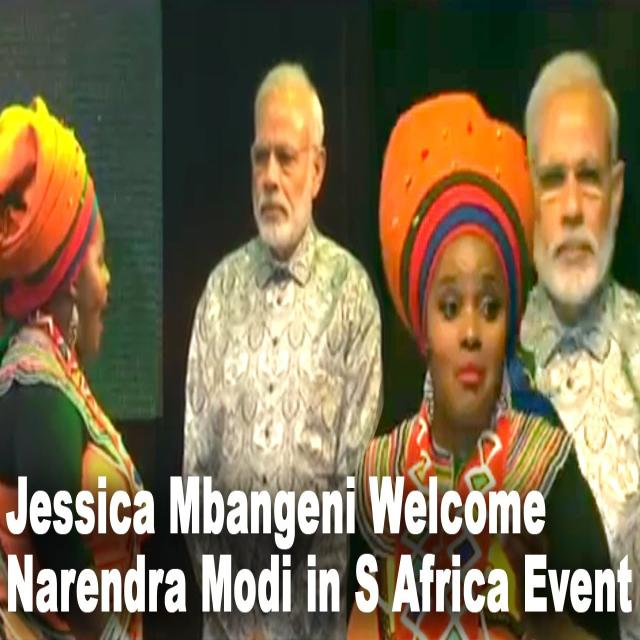body: (340, 82, 624, 639), (181, 50, 387, 639), (0, 93, 146, 640), (519, 49, 640, 640)
